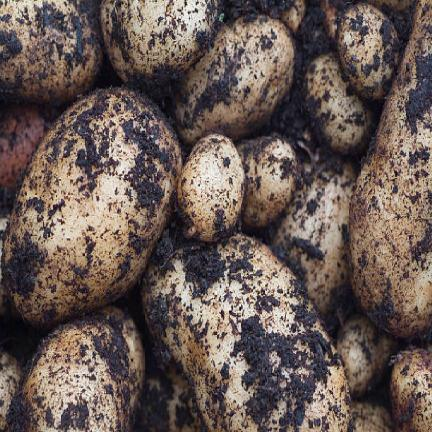potato: (4, 89, 181, 326), (143, 235, 349, 429), (349, 0, 431, 336), (8, 311, 143, 430), (174, 16, 294, 143), (272, 163, 355, 316), (0, 0, 102, 102), (100, 0, 220, 85), (177, 134, 244, 240), (306, 55, 373, 152), (337, 3, 400, 99), (237, 136, 301, 227), (336, 315, 395, 397), (0, 104, 55, 188), (140, 362, 200, 430), (390, 349, 431, 429), (0, 350, 22, 430), (352, 401, 392, 431), (320, 0, 343, 40), (0, 215, 9, 315), (280, 0, 306, 32), (368, 0, 414, 9)
